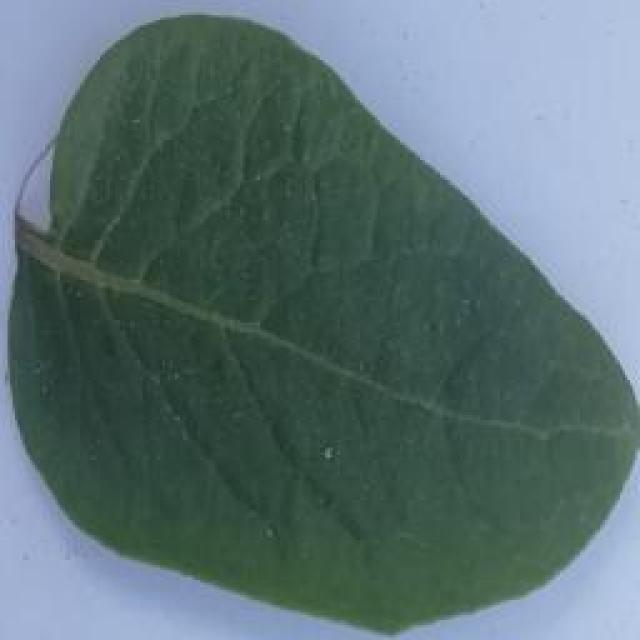Potato_Healthy: (9, 13, 628, 632)
